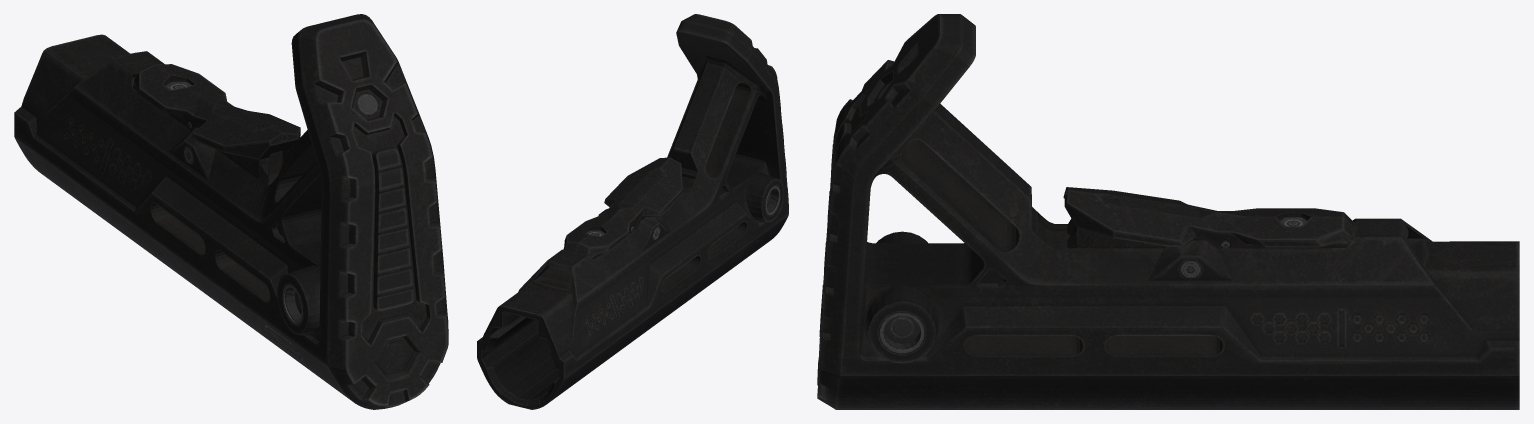
3 renders of one model, left to right at view 1: azimuth 30°, elevation 25°; view 2: azimuth 150°, elevation 25°; view 3: azimuth 270°, elevation 25°, orthographic. The views are drawn at different scales.
Visible parts, largest first — view 1: TW_5c793fde2e221601da358614_PZ_Import; view 2: TW_5c793fde2e221601da358614_PZ_Import; view 3: TW_5c793fde2e221601da358614_PZ_Import.
Boxes of the visible parts, box(x1,y1,x2,y2) form: TW_5c793fde2e221601da358614_PZ_Import: box(14, 14, 448, 409); TW_5c793fde2e221601da358614_PZ_Import: box(477, 14, 788, 409); TW_5c793fde2e221601da358614_PZ_Import: box(817, 14, 1519, 409).
Bounding box in the file's own units: 0.026 × 0.1092 × 0.0644.
1 material, 1 textured.
